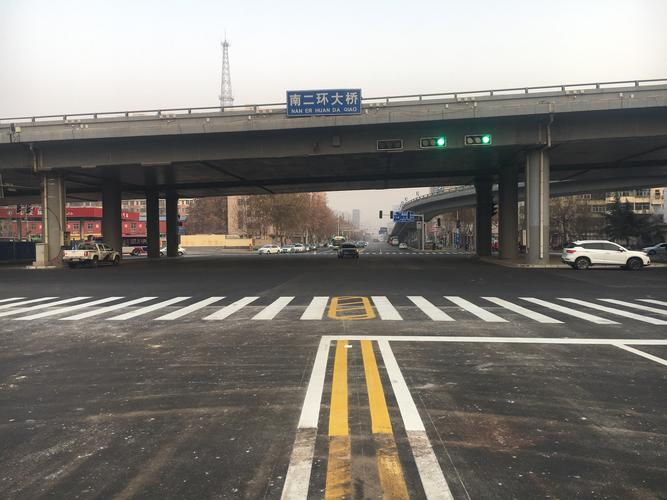car: (559, 241, 654, 270), (64, 240, 121, 270), (644, 242, 667, 263), (338, 242, 366, 255), (256, 244, 284, 254), (339, 246, 360, 259), (287, 244, 307, 253)
sign: (283, 84, 363, 115)
traffic light: (464, 131, 493, 148), (419, 135, 446, 150)
